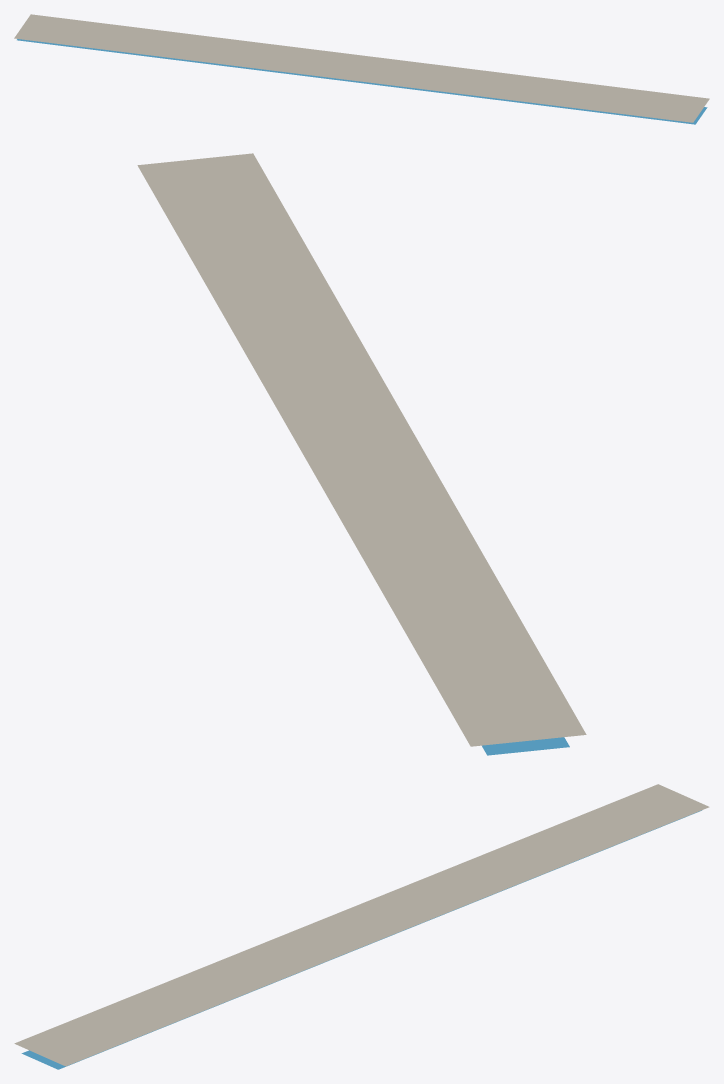
3 renders of one model, top to bottom at view 1: azimuth 30°, elevation 25°; view 2: azimuth 150°, elevation 25°; view 3: azimuth 270°, elevation 25°, orthographic. The views are drawn at different scales.
Parts seen in each view (by area): view 1: estructura_terreno, estructura_agua; view 2: estructura_terreno, estructura_agua; view 3: estructura_terreno, estructura_agua.
Boxes of the visible parts, bbox=[...] form: estructura_terreno: bbox=[14, 14, 709, 122]; estructura_agua: bbox=[17, 39, 707, 124]; estructura_terreno: bbox=[137, 153, 586, 746]; estructura_agua: bbox=[482, 737, 569, 755]; estructura_terreno: bbox=[14, 784, 709, 1066]; estructura_agua: bbox=[21, 810, 701, 1069].
Size of the model in its own units: 37.42 by 0.41 by 38.98.
